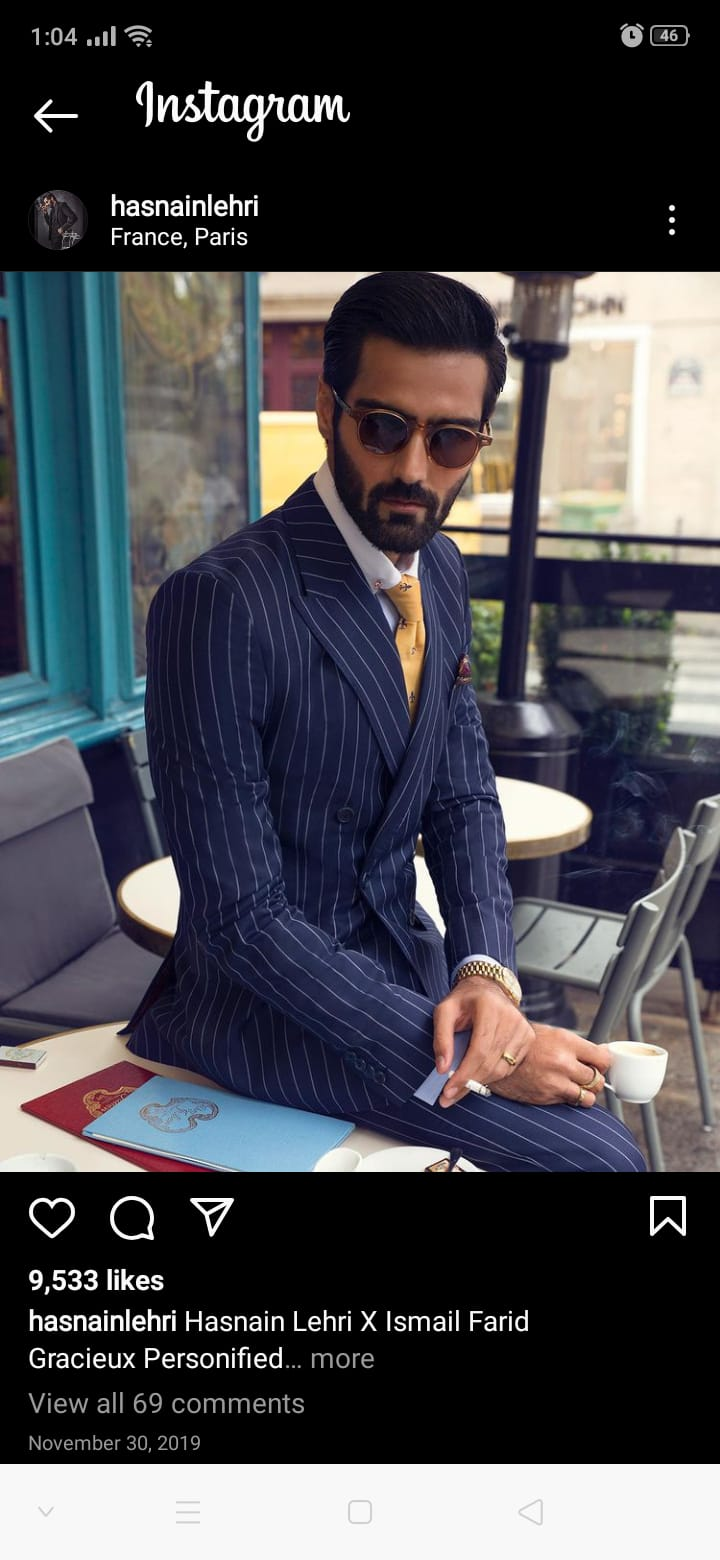NoMask: (342, 389, 481, 550)
